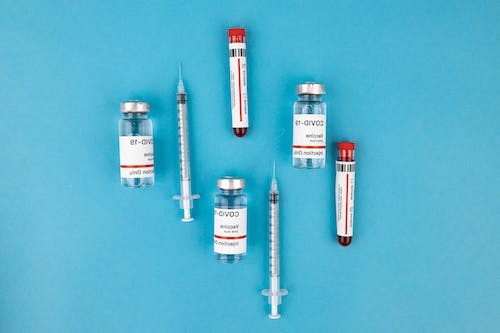blood: (334, 236, 357, 247), (233, 127, 249, 140)
